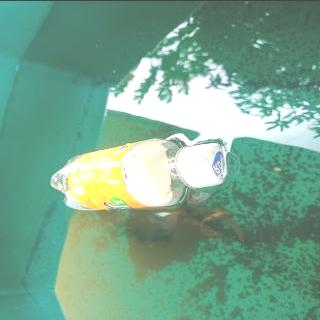bottle: (48, 136, 228, 212)
